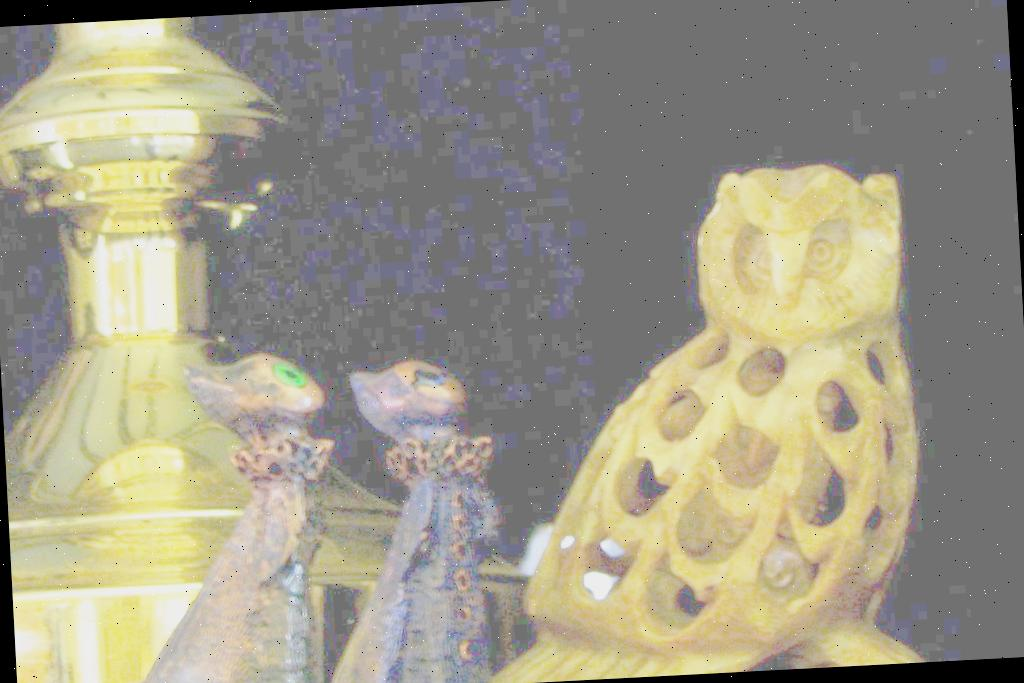Owl: (512, 148, 948, 672)
